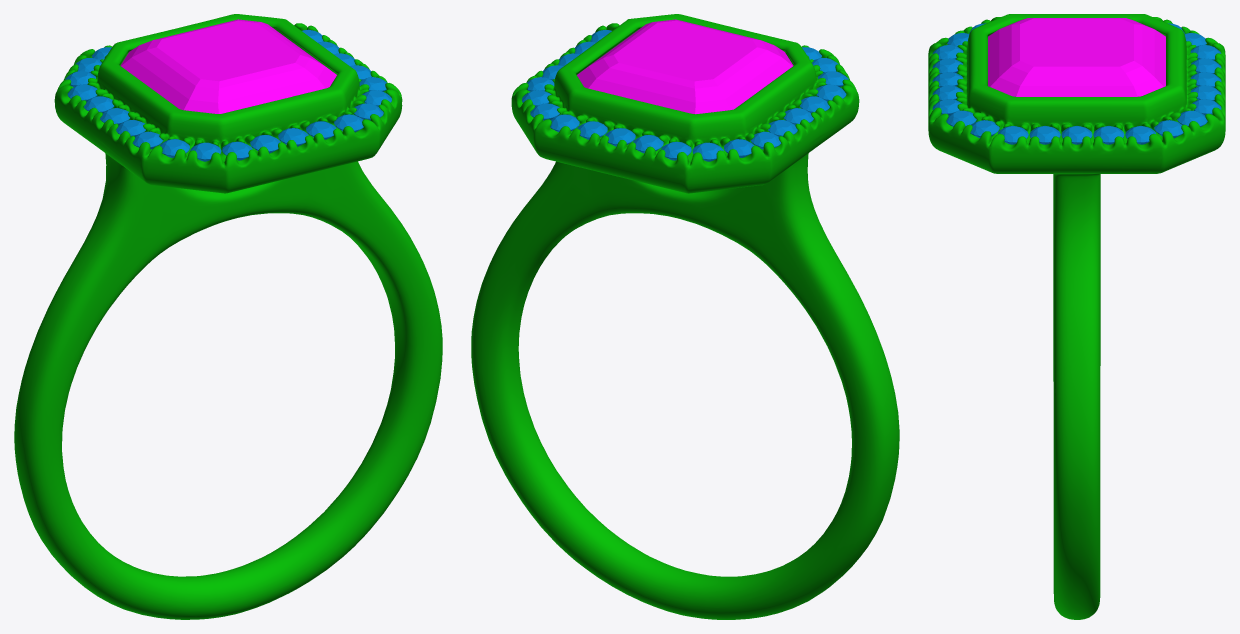
File: BE1D874_AS_200ct_RENDER.glb
3 renders of one model, left to right at view 1: azimuth 30°, elevation 25°; view 2: azimuth 150°, elevation 25°; view 3: azimuth 270°, elevation 25°, orthographic.
Parts seen in each view (by area): view 1: Metal 01, CS_Diamond_Asscher; view 2: Metal 01, CS_Diamond_Asscher; view 3: Metal 01, CS_Diamond_Asscher.
Part boxes in pixels (left/top/right/bottom): Metal 01: left=14, top=14, right=442, bottom=619; CS_Diamond_Asscher: left=120, top=19, right=336, bottom=113; Metal 01: left=471, top=14, right=899, bottom=619; CS_Diamond_Asscher: left=577, top=19, right=793, bottom=114; Metal 01: left=928, top=14, right=1225, bottom=619; CS_Diamond_Asscher: left=988, top=18, right=1165, bottom=96.
Bounding box in the file's own units: 20.11 × 25.8 × 12.52.
